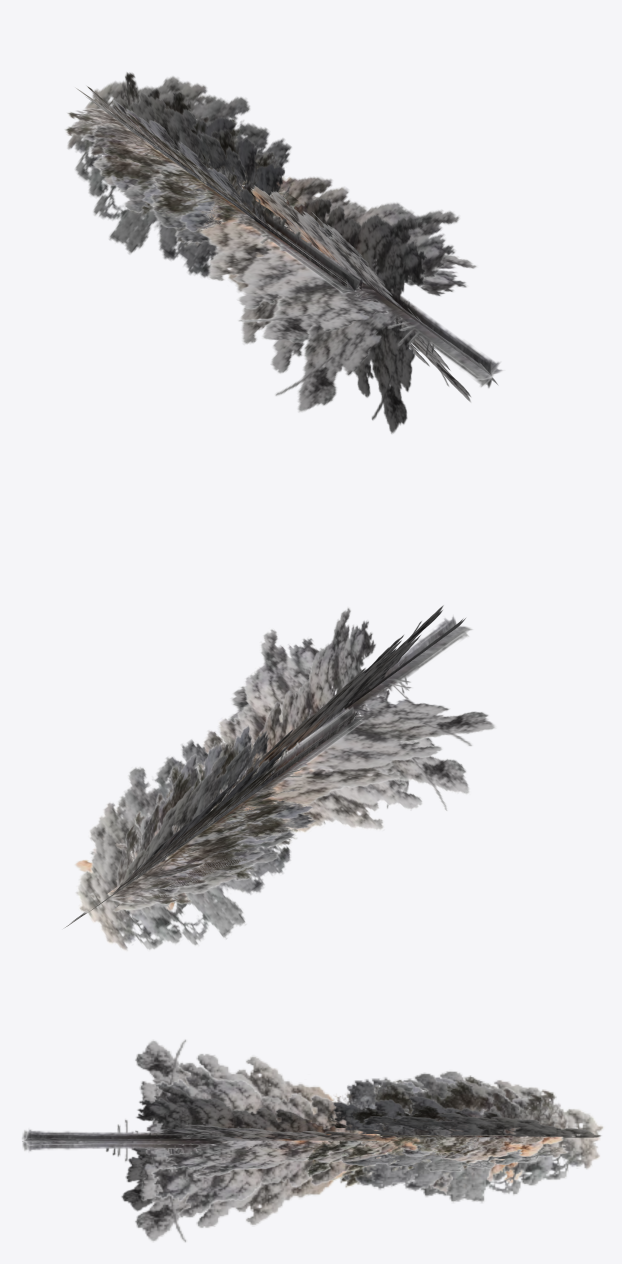
Rendered from trees.glb.
3 renders of one model, top to bottom at view 1: azimuth 30°, elevation 25°; view 2: azimuth 150°, elevation 25°; view 3: azimuth 270°, elevation 25°, orthographic. The views are drawn at different scales.
Parts seen in each view (by area): view 1: tree144, tree141, pine, tree140; view 2: tree144, tree141, pine, tree140; view 3: tree144, tree141, pine, tree140.
Part boxes in pixels (left/top/right/bottom): tree144: left=200, top=176, right=504, bottom=433; tree141: left=67, top=76, right=360, bottom=288; pine: left=64, top=72, right=359, bottom=293; tree140: left=81, top=99, right=362, bottom=295; tree144: left=197, top=605, right=496, bottom=832; tree141: left=63, top=711, right=356, bottom=951; pine: left=107, top=706, right=364, bottom=904; tree140: left=74, top=708, right=362, bottom=910; tree144: left=22, top=1039, right=420, bottom=1242; tree141: left=342, top=1070, right=604, bottom=1202; pine: left=297, top=1075, right=568, bottom=1195; tree140: left=333, top=1076, right=563, bottom=1193.
Size of the model in its own units: 0.5755 by 0.4901 by 1.59.
4 materials, 4 textured.
